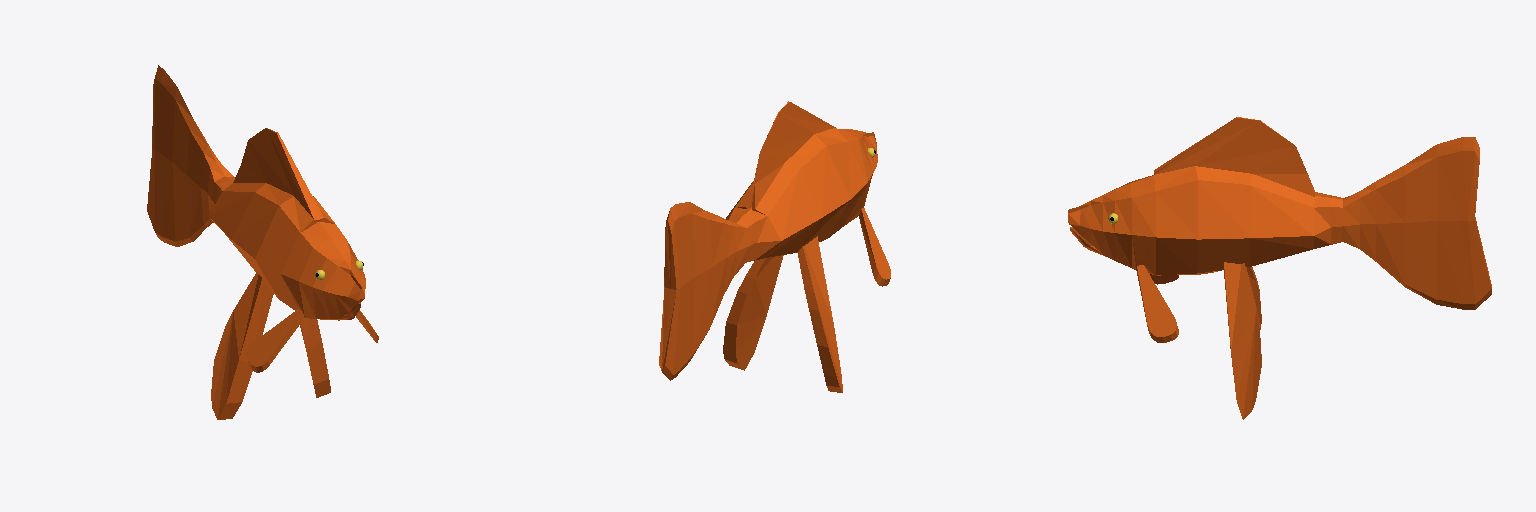
3 renders of one model, left to right at view 1: azimuth 30°, elevation 25°; view 2: azimuth 150°, elevation 25°; view 3: azimuth 270°, elevation 25°, orthographic.
Visible parts, largest first — view 1: Fish, leg; view 2: Fish, leg; view 3: Fish, leg.
Part boxes in pixels (x1,y1,x2,y2): Fish: (147,65,378,372); leg: (211,272,330,419); Fish: (659,101,890,380); leg: (723,236,842,392); Fish: (1068,117,1491,342); leg: (1224,262,1261,419).
Bounding box in the file's own units: 1.22 × 2.56 × 3.54.
3 materials, 1 textured.